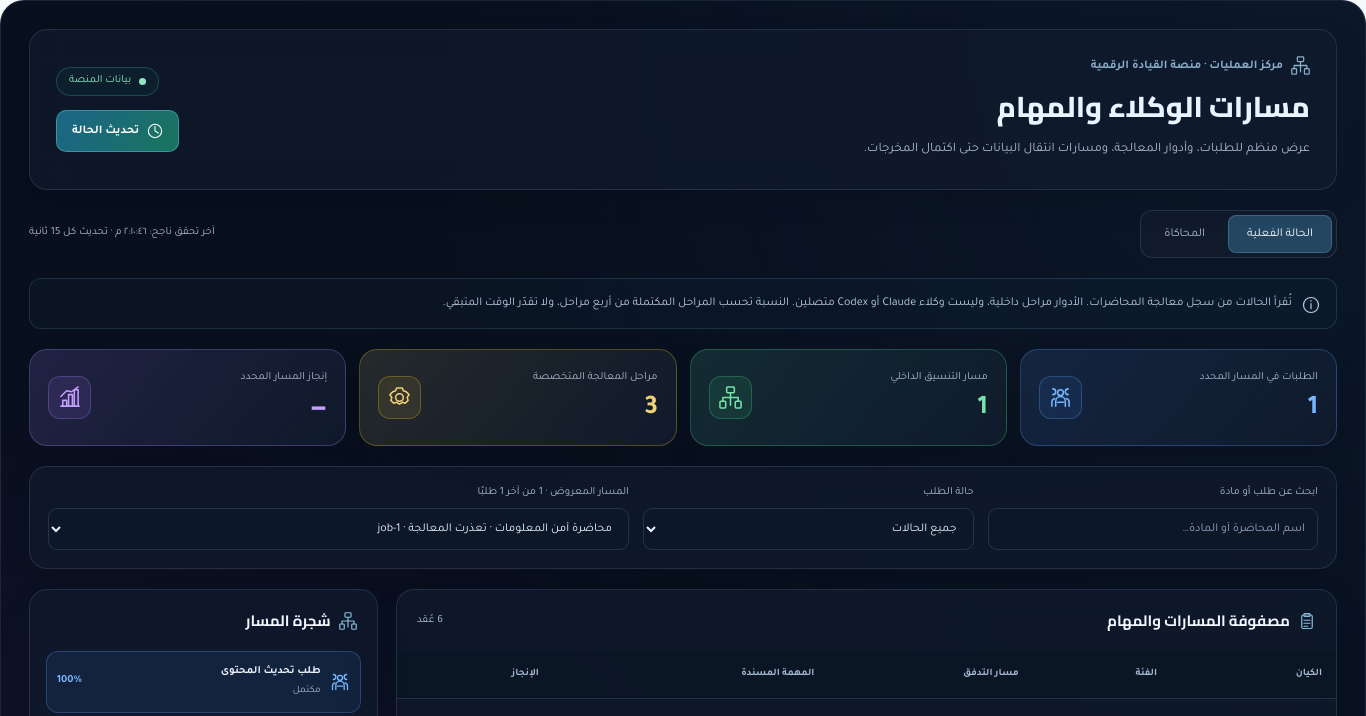
Test: WorkflowDashboard › renders unmeasured failed work without invented percentages or raw backend errors
Click the button "تحديث الحالة" at point(118, 131), box [56,110,179,152]
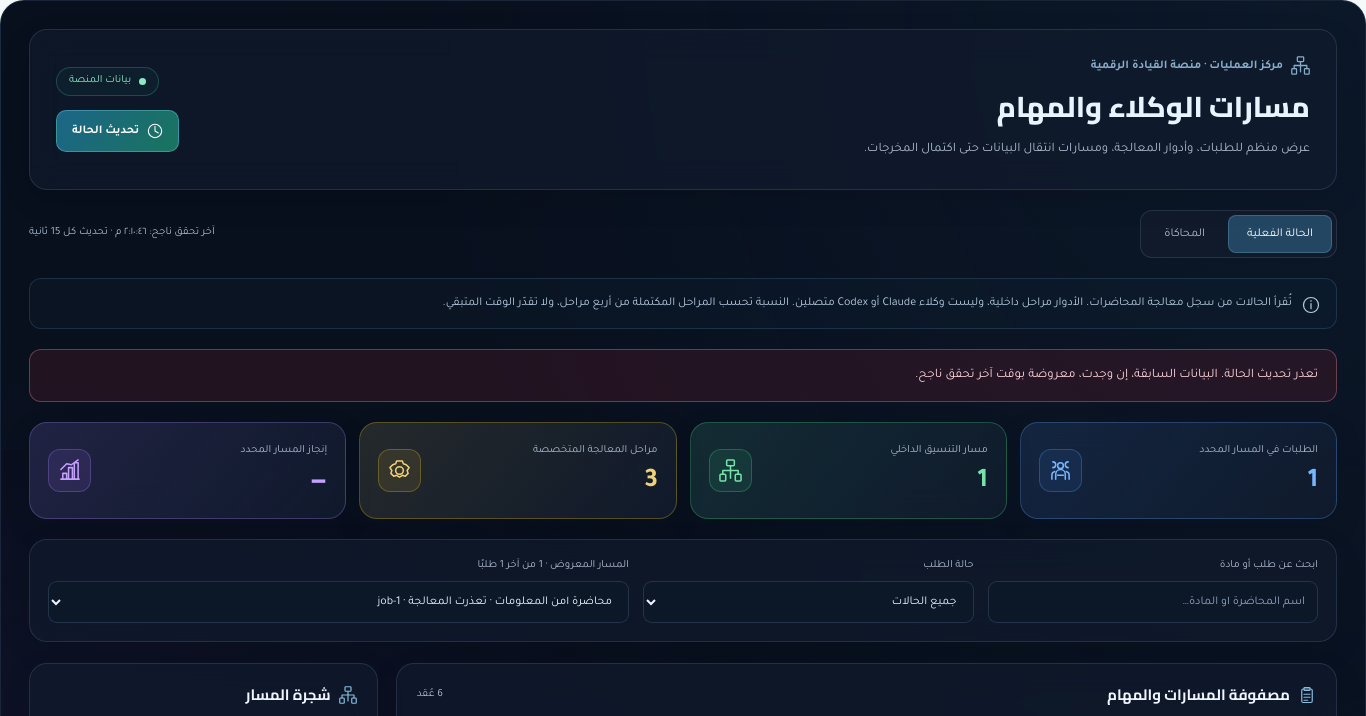
Result: the message "تعذر تحديث الحالة. البيانات السابقة، إن وجدت، معروضة بوقت آخر تحقق ناجح." is shown at [29,348,1337,402]
